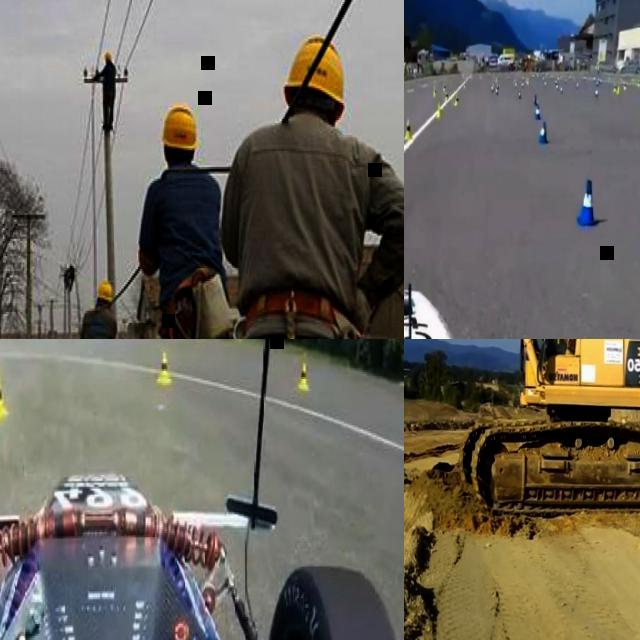helmet: (282, 36, 345, 117), (158, 103, 200, 149), (95, 280, 113, 302), (104, 50, 112, 60)
machinery: (404, 339, 640, 518)
no_vest: (238, 119, 364, 338), (157, 168, 218, 301), (80, 307, 114, 339), (104, 62, 114, 86)
person: (220, 35, 404, 339), (139, 101, 228, 339), (79, 279, 118, 339), (96, 49, 116, 131)
safety_cone: (576, 175, 598, 228), (157, 352, 171, 384), (0, 373, 8, 418), (298, 361, 308, 390), (538, 118, 548, 145), (404, 115, 414, 141), (435, 100, 443, 120), (534, 103, 542, 119), (454, 91, 458, 107), (444, 89, 448, 103), (433, 84, 437, 98), (595, 88, 599, 101), (494, 84, 498, 96), (518, 88, 522, 100), (614, 82, 618, 94), (616, 86, 620, 96), (560, 86, 564, 96), (491, 80, 494, 92)
vehicle: (0, 339, 404, 640)
